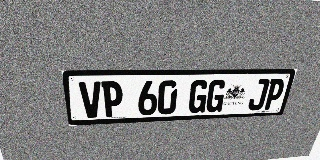0: (157, 80, 178, 115)
6: (138, 81, 158, 116)
G: (187, 80, 209, 113), (205, 79, 227, 112)
J: (247, 79, 271, 111)
P: (101, 81, 123, 117), (262, 79, 286, 110)
V: (79, 81, 103, 118)
